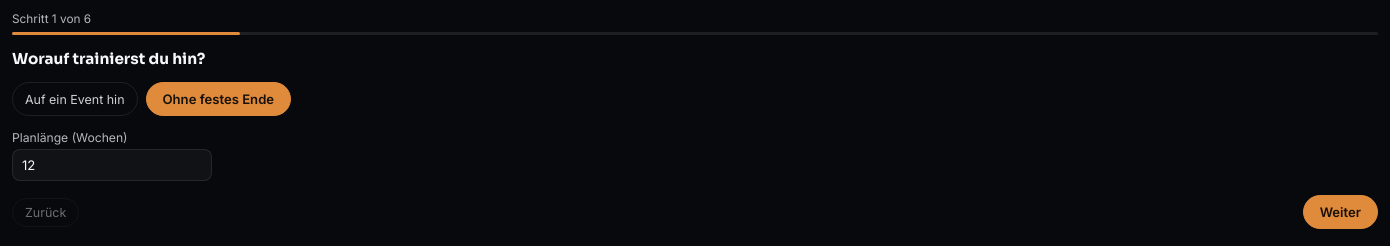
Scenario: GuidedPlanQuestions › hält an, solange eine Pflichtfrage offen ist, und zeigt den Grund
Click the button "Weiter" at coordinates (1340, 212), box [1303,195,1378,229]
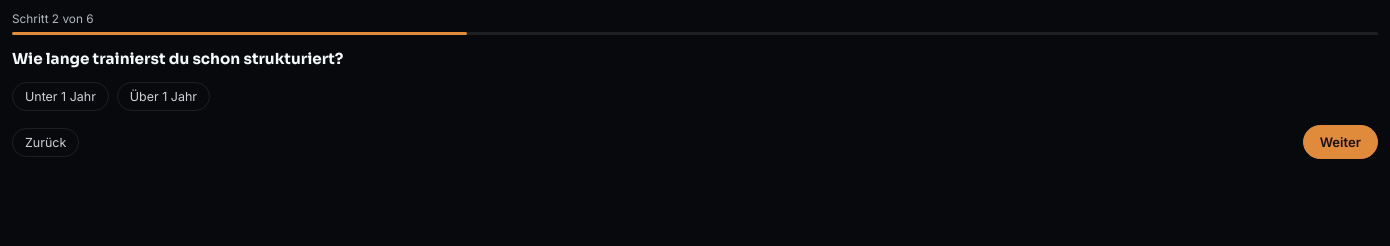
Click the button "Weiter" at coordinates (1340, 142), box [1303,125,1378,159]
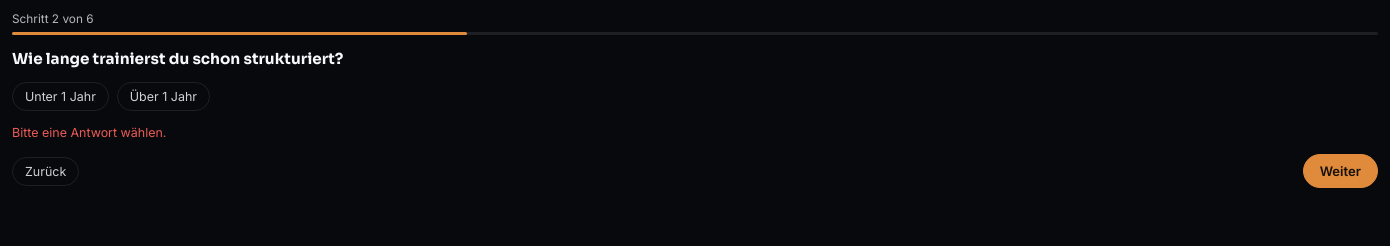
Now the text "Schritt 2 von 6" is shown, box [12,12,94,26]
Now the message shows "Antwort", box [12,125,166,140]
